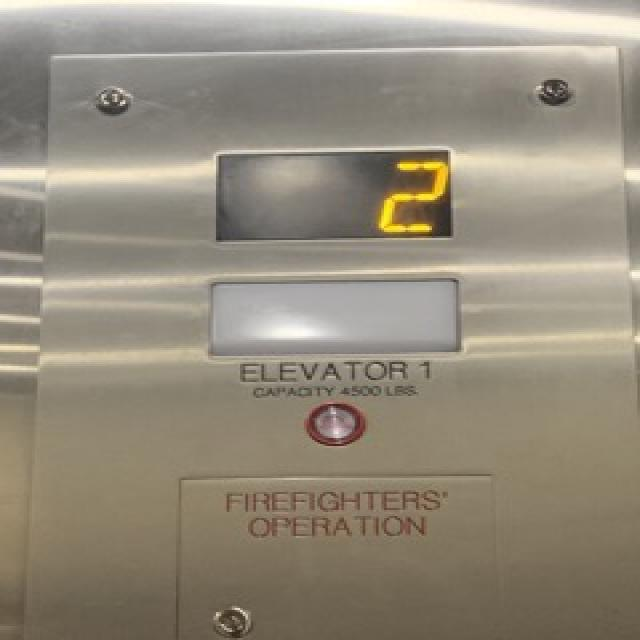box: (182, 152, 486, 258)
